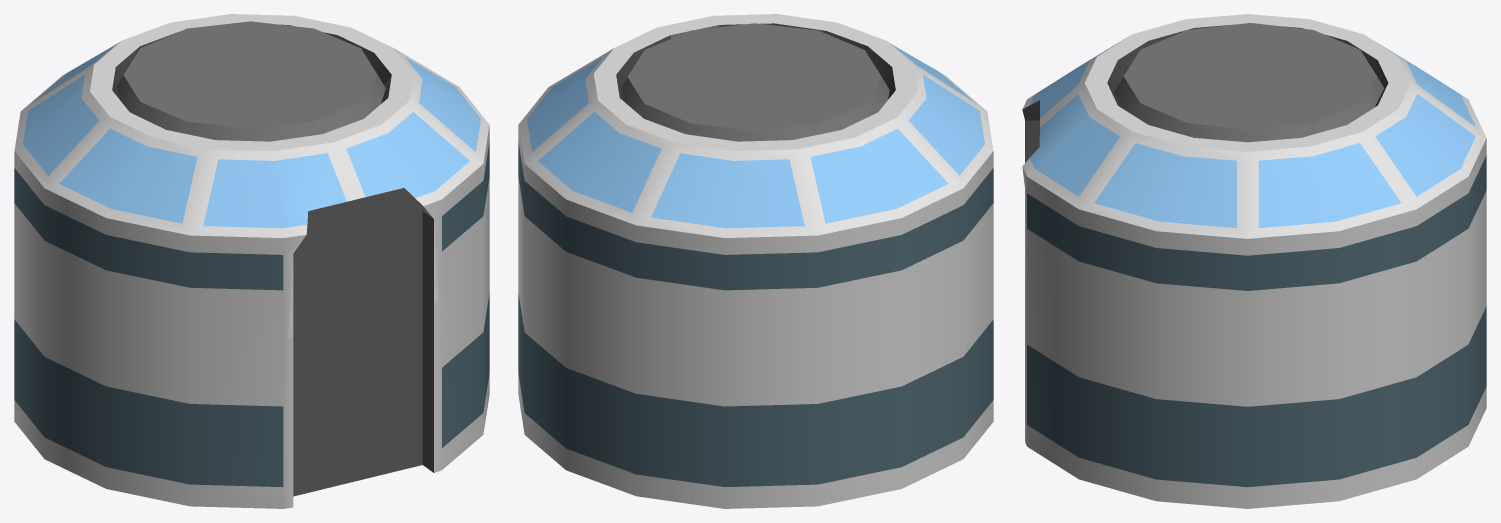
Rendered from space_station_decoration_006.fbx.
3 renders of one model, left to right at view 1: azimuth 30°, elevation 25°; view 2: azimuth 150°, elevation 25°; view 3: azimuth 270°, elevation 25°, orthographic.
Parts seen in each view (by area): view 1: space_station_decoration_006; view 2: space_station_decoration_006; view 3: space_station_decoration_006.
Part boxes in pixels (bbox=[...]): space_station_decoration_006: bbox=[14, 14, 489, 508]; space_station_decoration_006: bbox=[518, 14, 993, 508]; space_station_decoration_006: bbox=[1022, 14, 1486, 508].
Bounding box in the file's own units: 535 × 520 × 410.
